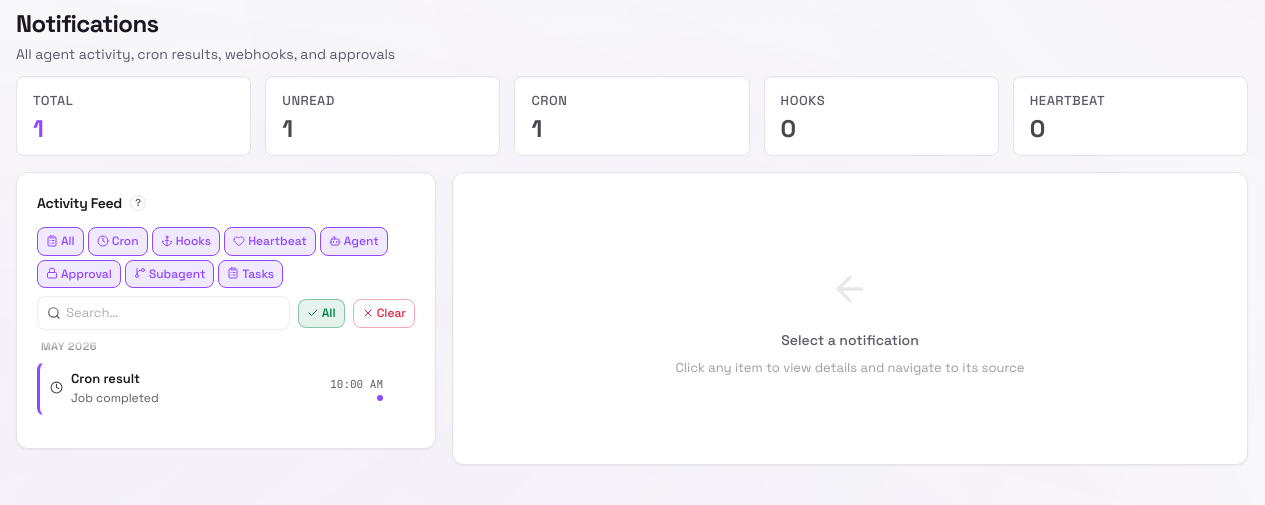
Cron Notification Buttons › shows no chat action button when neither job_id nor slot
The image size is (1265, 505).
Click the text "Cron result": {"x": 106, "y": 378} x1=71 y1=370 x2=140 y2=386
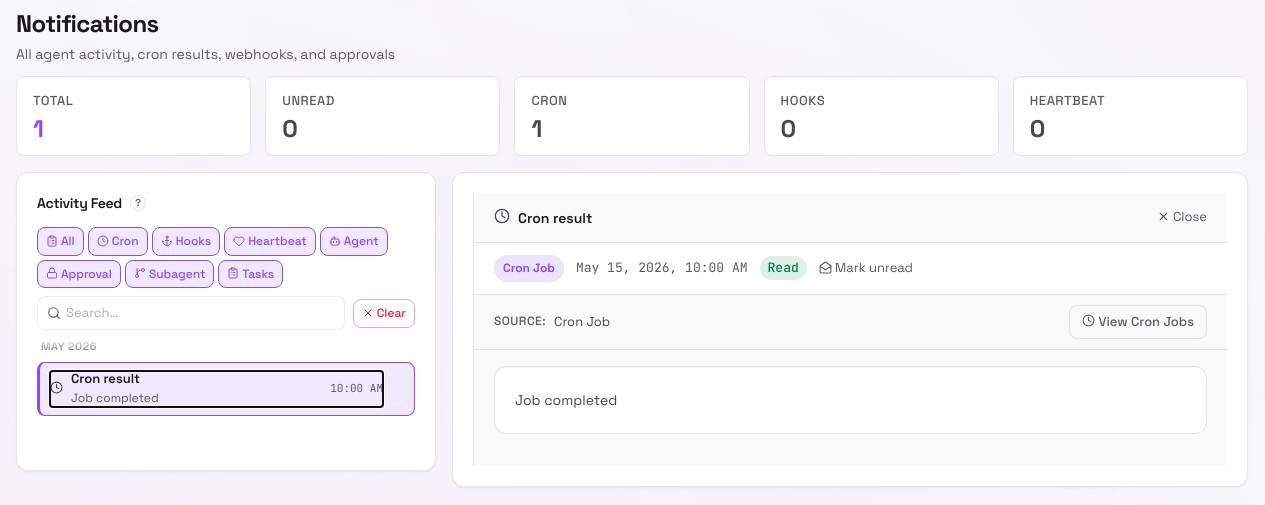
Now the text "Source:" is shown, box x1=494 y1=312 x2=546 y2=331
